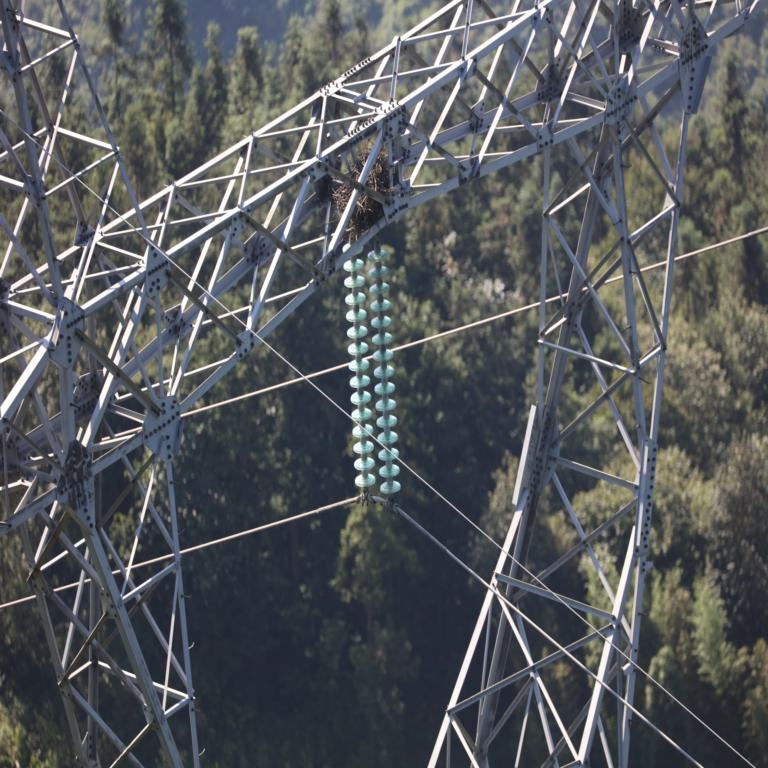nest: (333, 157, 391, 227)
